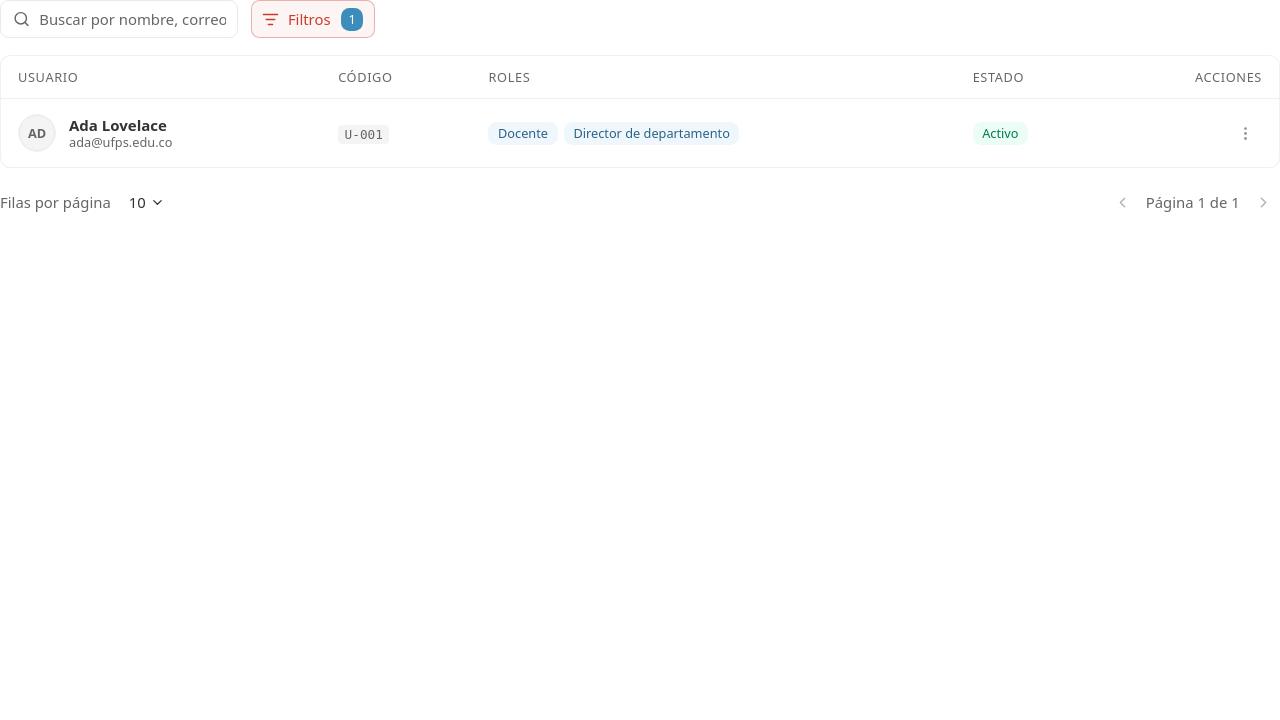
Test case: UsersList › prefills a director's teacher department, not the one they direct
Click the button named "Acciones" at (1245,133), box 1228,116 -> 1262,150
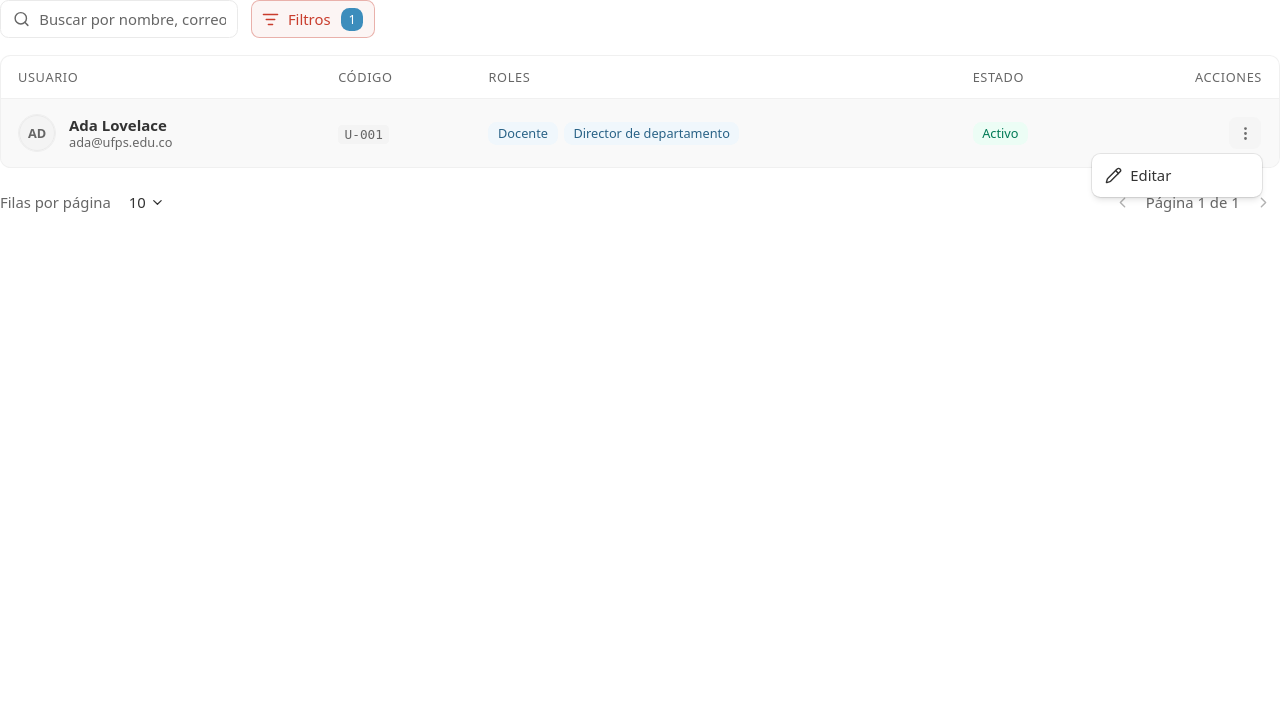
Click the menu item "Editar" at (1138,175), box 1105,165 -> 1171,185
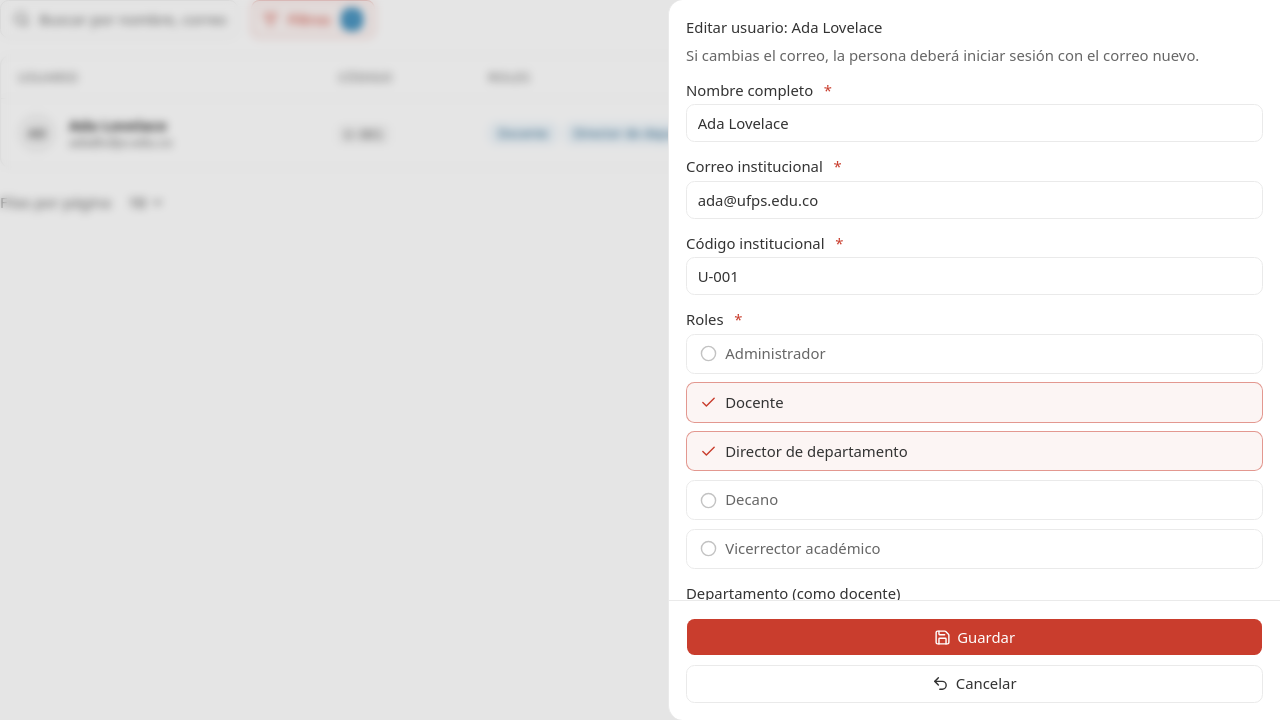
Check: the heading "Editar usuario: Ada Lovelace" is shown, box 686,17 -> 882,37
